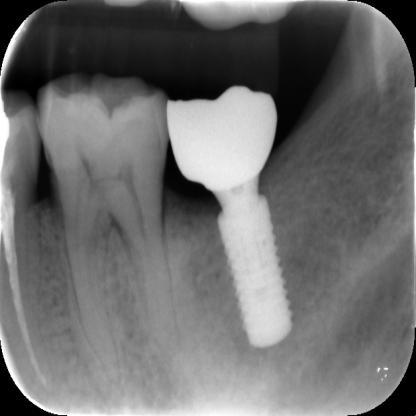ITI: (208, 197, 312, 357)
